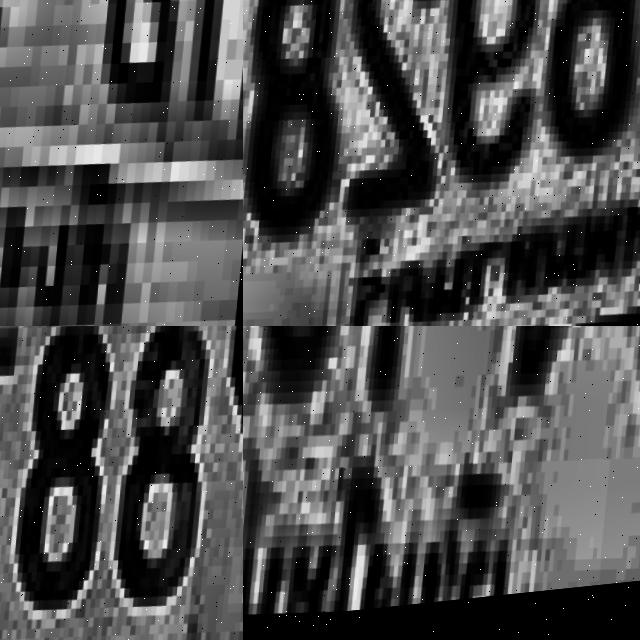license-plate: (243, 0, 640, 326), (243, 326, 640, 640), (0, 0, 243, 326), (0, 326, 243, 640)
